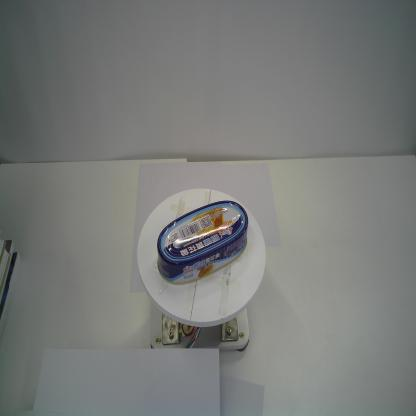Canned Food: (156, 200, 249, 284)
